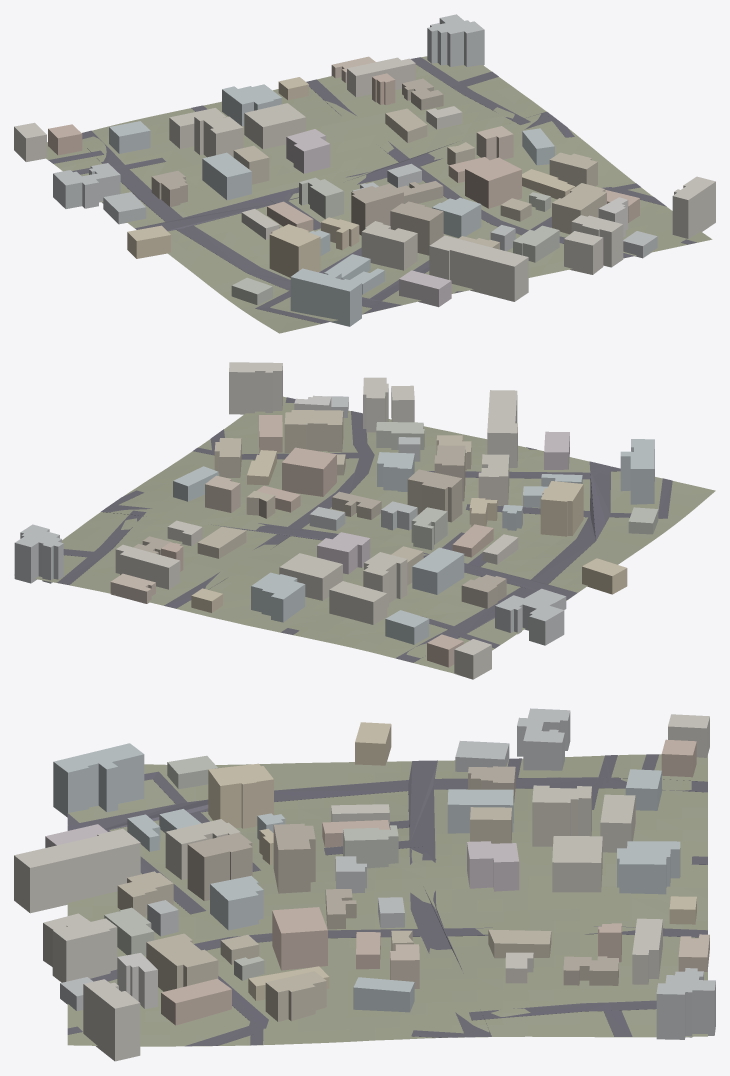
Rendered from chunk_0_6.glb.
The picture shows the model from 3 angles, top to bottom: view 1: azimuth 30°, elevation 25°; view 2: azimuth 150°, elevation 25°; view 3: azimuth 270°, elevation 25°; orthographic projection. The views are drawn at different scales.
Parts seen in each view (by area): view 1: geometry_60, geometry_24, geometry_0, geometry_52, geometry_74, geometry_55, geometry_35, geometry_6, geometry_7, geometry_9, geometry_53, geometry_41 (+46 smaller); view 2: geometry_60, geometry_6, geometry_72, geometry_55, geometry_52, geometry_4, geometry_35, geometry_7, geometry_32, geometry_42, geometry_24, geometry_0 (+46 smaller); view 3: geometry_60, geometry_24, geometry_0, geometry_74, geometry_6, geometry_52, geometry_7, geometry_3, geometry_35, geometry_41, geometry_30, geometry_42 (+55 smaller).
Part boxes in pixels (<box>): geometry_60: <box>45,56,712,333</box>; geometry_24: <box>429,235,528,301</box>; geometry_0: <box>290,268,361,326</box>; geometry_52: <box>427,14,484,66</box>; geometry_74: <box>135,111,556,231</box>; geometry_55: <box>53,163,120,208</box>; geometry_35: <box>465,157,521,208</box>; geometry_6: <box>672,176,715,238</box>; geometry_7: <box>269,224,320,277</box>; geometry_9: <box>361,221,417,270</box>; geometry_53: <box>244,103,305,149</box>; geometry_41: <box>194,112,243,157</box>; geometry_60: <box>35,396,715,674</box>; geometry_6: <box>229,362,282,414</box>; geometry_72: <box>531,461,610,584</box>; geometry_55: <box>495,595,564,645</box>; geometry_52: <box>14,524,63,583</box>; geometry_4: <box>284,410,343,452</box>; geometry_35: <box>282,447,336,496</box>; geometry_7: <box>540,481,583,536</box>; geometry_32: <box>407,469,462,522</box>; geometry_42: <box>251,572,305,622</box>; geometry_24: <box>487,390,517,467</box>; geometry_0: <box>620,439,654,504</box>; geometry_60: <box>67,754,707,1046</box>; geometry_24: <box>14,828,140,913</box>; geometry_0: <box>53,743,144,817</box>; geometry_74: <box>408,760,491,1037</box>; geometry_6: <box>83,979,140,1061</box>; geometry_52: <box>656,968,715,1039</box>; geometry_7: <box>208,763,273,828</box>; geometry_3: <box>52,918,117,982</box>; geometry_35: <box>272,907,327,970</box>; geometry_41: <box>532,785,591,846</box>; geometry_30: <box>187,832,252,901</box>; geometry_42: <box>617,841,680,894</box>.
Bounding box in the file's own units: 282 × 28.3 × 274.
